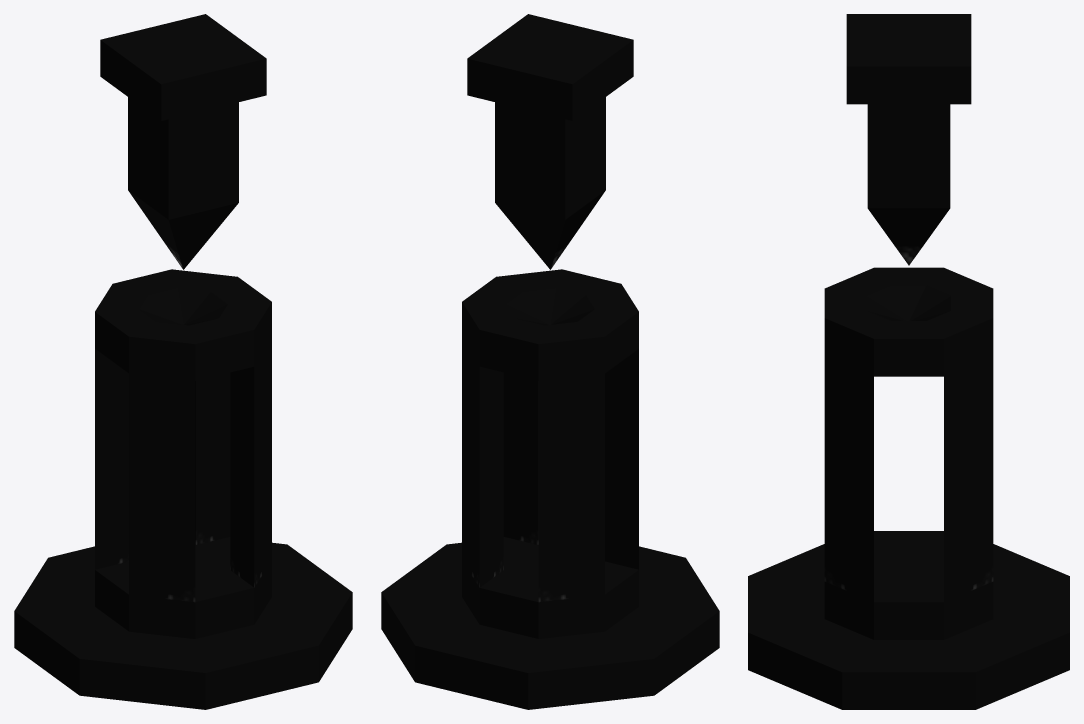
The model's file is manaweaving_projector_inventory.obj.
The picture shows the model from 3 angles, left to right: view 1: azimuth 30°, elevation 25°; view 2: azimuth 150°, elevation 25°; view 3: azimuth 270°, elevation 25°; orthographic projection. The views are drawn at different scales.
Parts seen in each view (by area): view 1: MAIN_BODY_Cylinder, SHAPE_PEDESTAL_Cube.010; view 2: MAIN_BODY_Cylinder, SHAPE_PEDESTAL_Cube.010; view 3: MAIN_BODY_Cylinder, SHAPE_PEDESTAL_Cube.010.
Boxes of the visible parts, x1,y1,x2,y2 form: MAIN_BODY_Cylinder: (14, 269, 352, 709); SHAPE_PEDESTAL_Cube.010: (100, 14, 266, 269); MAIN_BODY_Cylinder: (381, 269, 719, 709); SHAPE_PEDESTAL_Cube.010: (467, 14, 633, 269); MAIN_BODY_Cylinder: (748, 267, 1069, 709); SHAPE_PEDESTAL_Cube.010: (846, 14, 971, 265).
Size of the model in its own units: 0.485 by 1 by 0.485.
